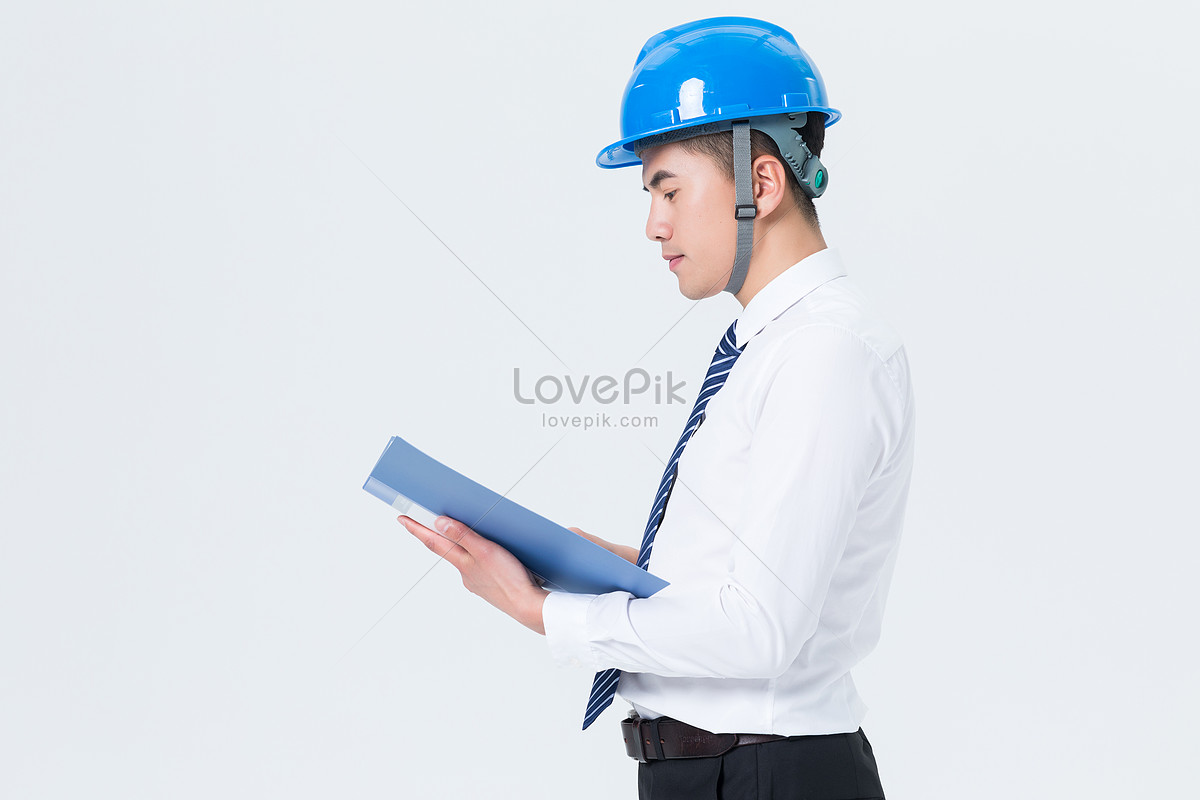helmet: (600, 13, 842, 161)
